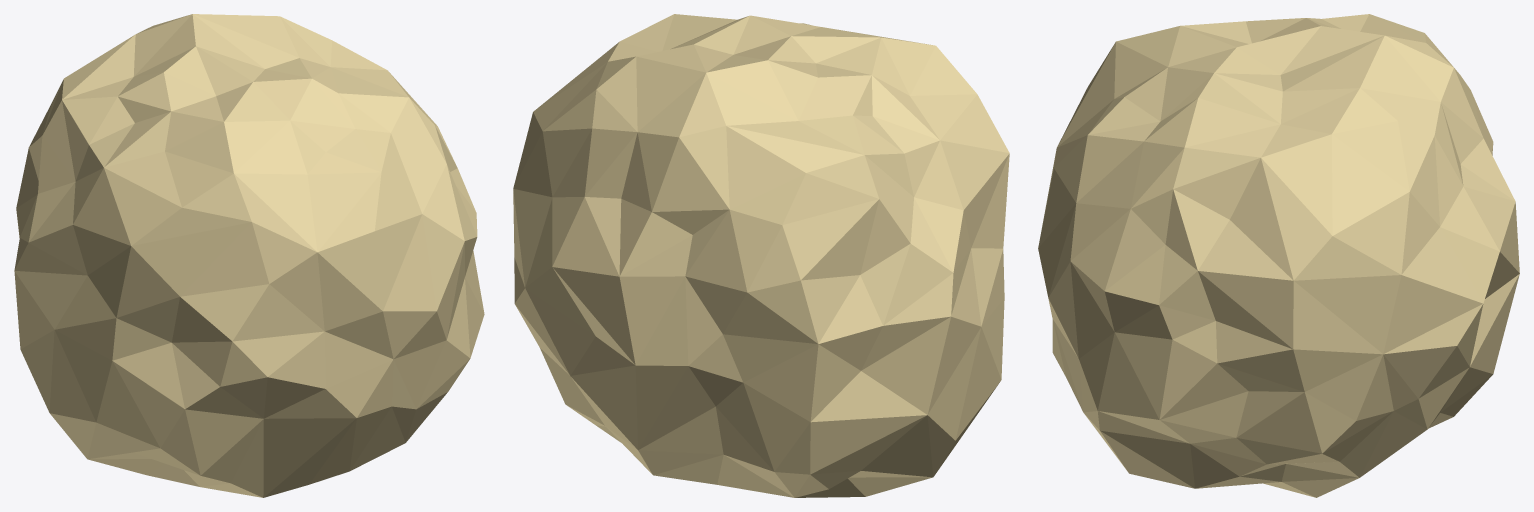
Rendered from Asteroid (112).fbx.
3 views of the same model, side by side, from view 1: azimuth 30°, elevation 25°; view 2: azimuth 150°, elevation 25°; view 3: azimuth 270°, elevation 25° (orthographic). The views are drawn at different scales.
Visible parts, largest first — view 1: Asteroid182; view 2: Asteroid182; view 3: Asteroid182.
Boxes of the visible parts, bbox=[...] form: Asteroid182: bbox=[14, 14, 484, 497]; Asteroid182: bbox=[513, 14, 1009, 497]; Asteroid182: bbox=[1038, 14, 1519, 497].
Bounding box in the file's own units: 368 × 351 × 351.
